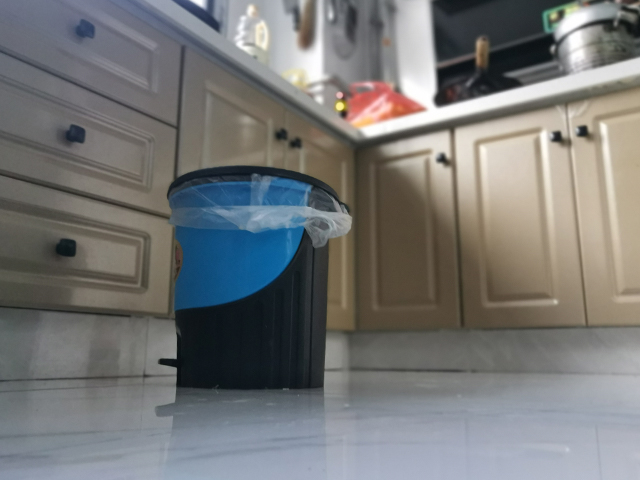cabinet: (361, 59, 640, 374)
trashcan: (157, 164, 353, 392)
